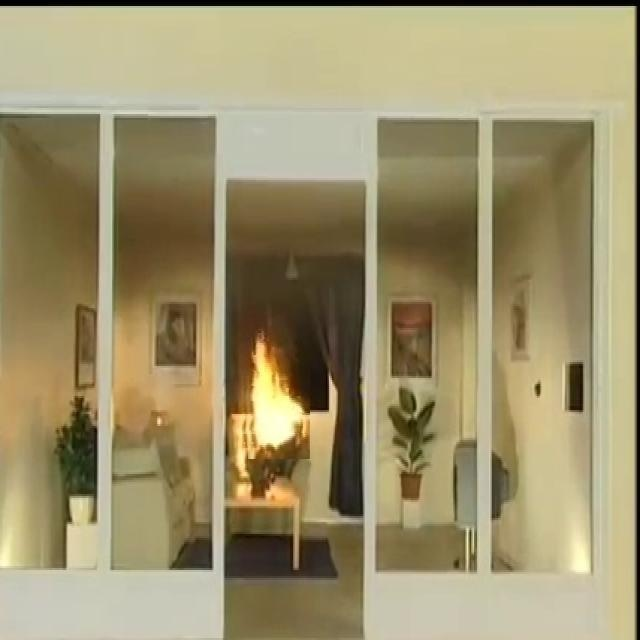fire: (240, 331, 328, 485)
